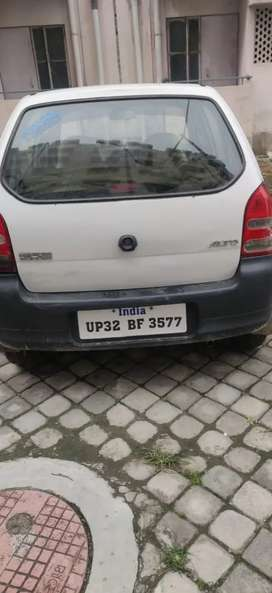UP32BF3577: (76, 302, 187, 340)
